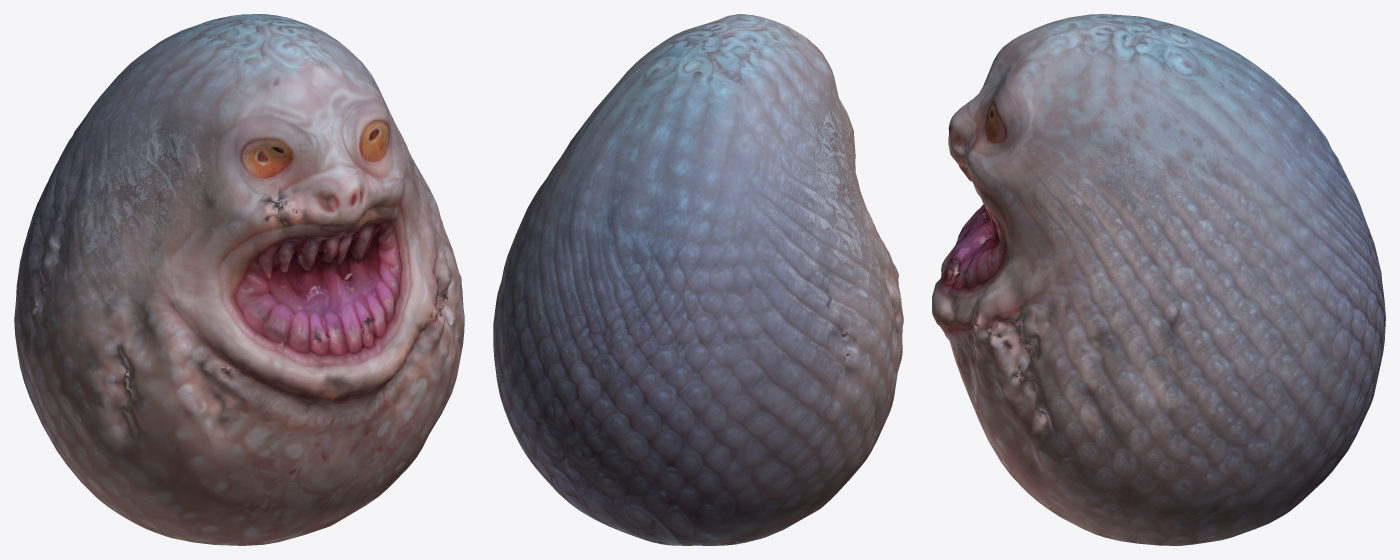
File: a_nightmare_blobby_fl_0727095807_refine.fbx
The picture shows the model from 3 angles, left to right: view 1: azimuth 30°, elevation 25°; view 2: azimuth 150°, elevation 25°; view 3: azimuth 270°, elevation 25°; orthographic projection. The views are drawn at different scales.
Visible parts, largest first — view 1: Mesh_0; view 2: Mesh_0; view 3: Mesh_0.
Part boxes in pixels (x1,y1,x2,y2): Mesh_0: (14,14,464,545); Mesh_0: (493,14,903,545); Mesh_0: (932,14,1385,545).
Bounding box in the file's own units: 92.76 × 120 × 98.26.
1 material, 1 textured.
